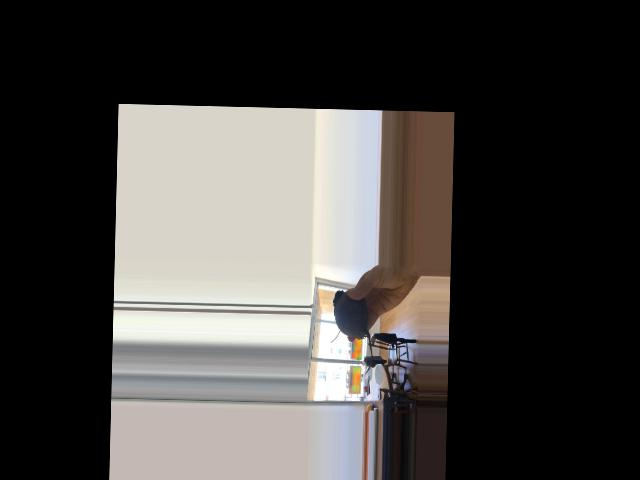beet: (330, 290, 374, 374)
